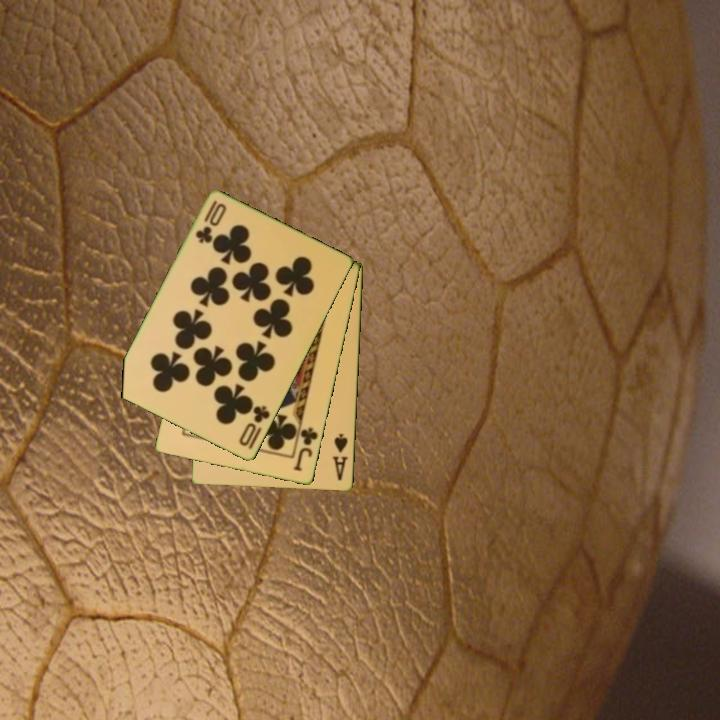10c: (192, 197, 229, 247), (236, 402, 273, 450)
As: (329, 430, 351, 483)
Jc: (290, 424, 321, 474)
